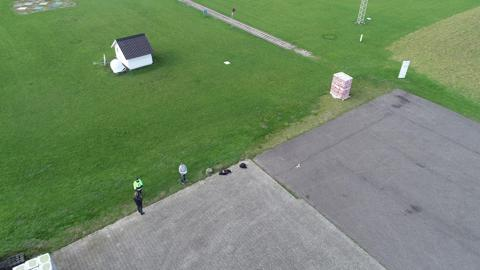RockwoolPallet: (330, 72, 354, 100)
